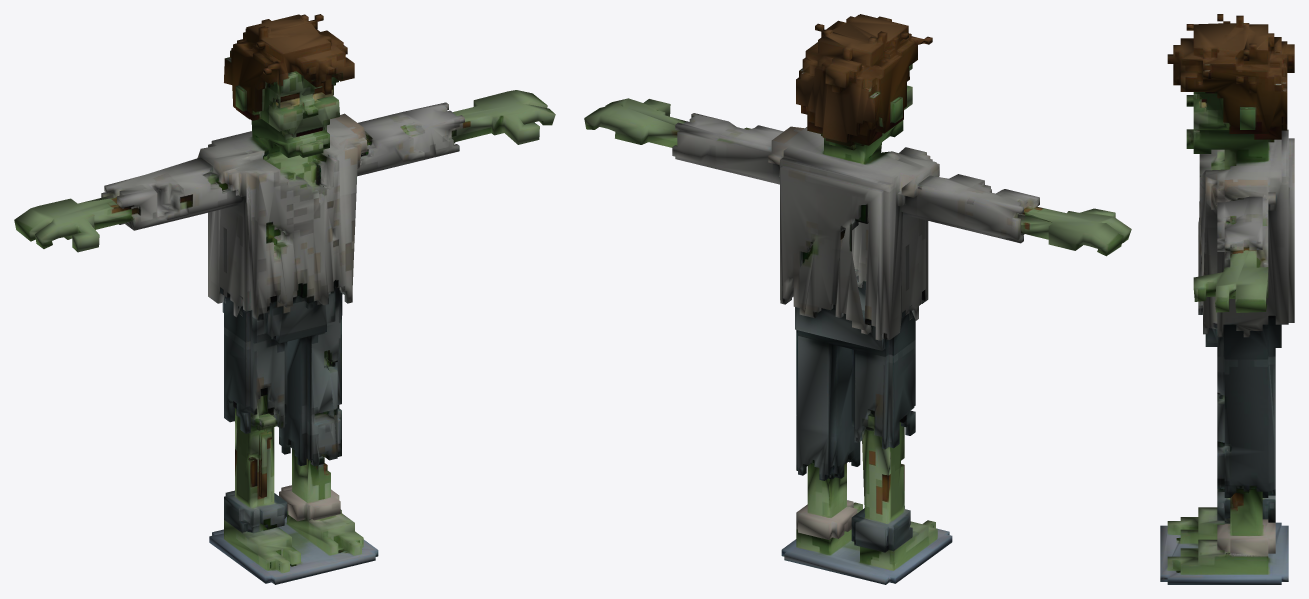
Rendered from selected.fbx.
The picture shows the model from 3 angles, left to right: view 1: azimuth 30°, elevation 25°; view 2: azimuth 150°, elevation 25°; view 3: azimuth 270°, elevation 25°; orthographic projection.
Visible parts, largest first — view 1: tripo_node_38c4f653-be57-4b24-9aea-25ae116c8d5d; view 2: tripo_node_38c4f653-be57-4b24-9aea-25ae116c8d5d; view 3: tripo_node_38c4f653-be57-4b24-9aea-25ae116c8d5d.
Part boxes in pixels (x1,y1,x2,y2): tripo_node_38c4f653-be57-4b24-9aea-25ae116c8d5d: (14,14,555,584); tripo_node_38c4f653-be57-4b24-9aea-25ae116c8d5d: (584,14,1131,584); tripo_node_38c4f653-be57-4b24-9aea-25ae116c8d5d: (1160,14,1294,584).
Bounding box in the file's own units: 0.998 × 0.959 × 0.2207.
Materials: 1 (1 with a texture image).
